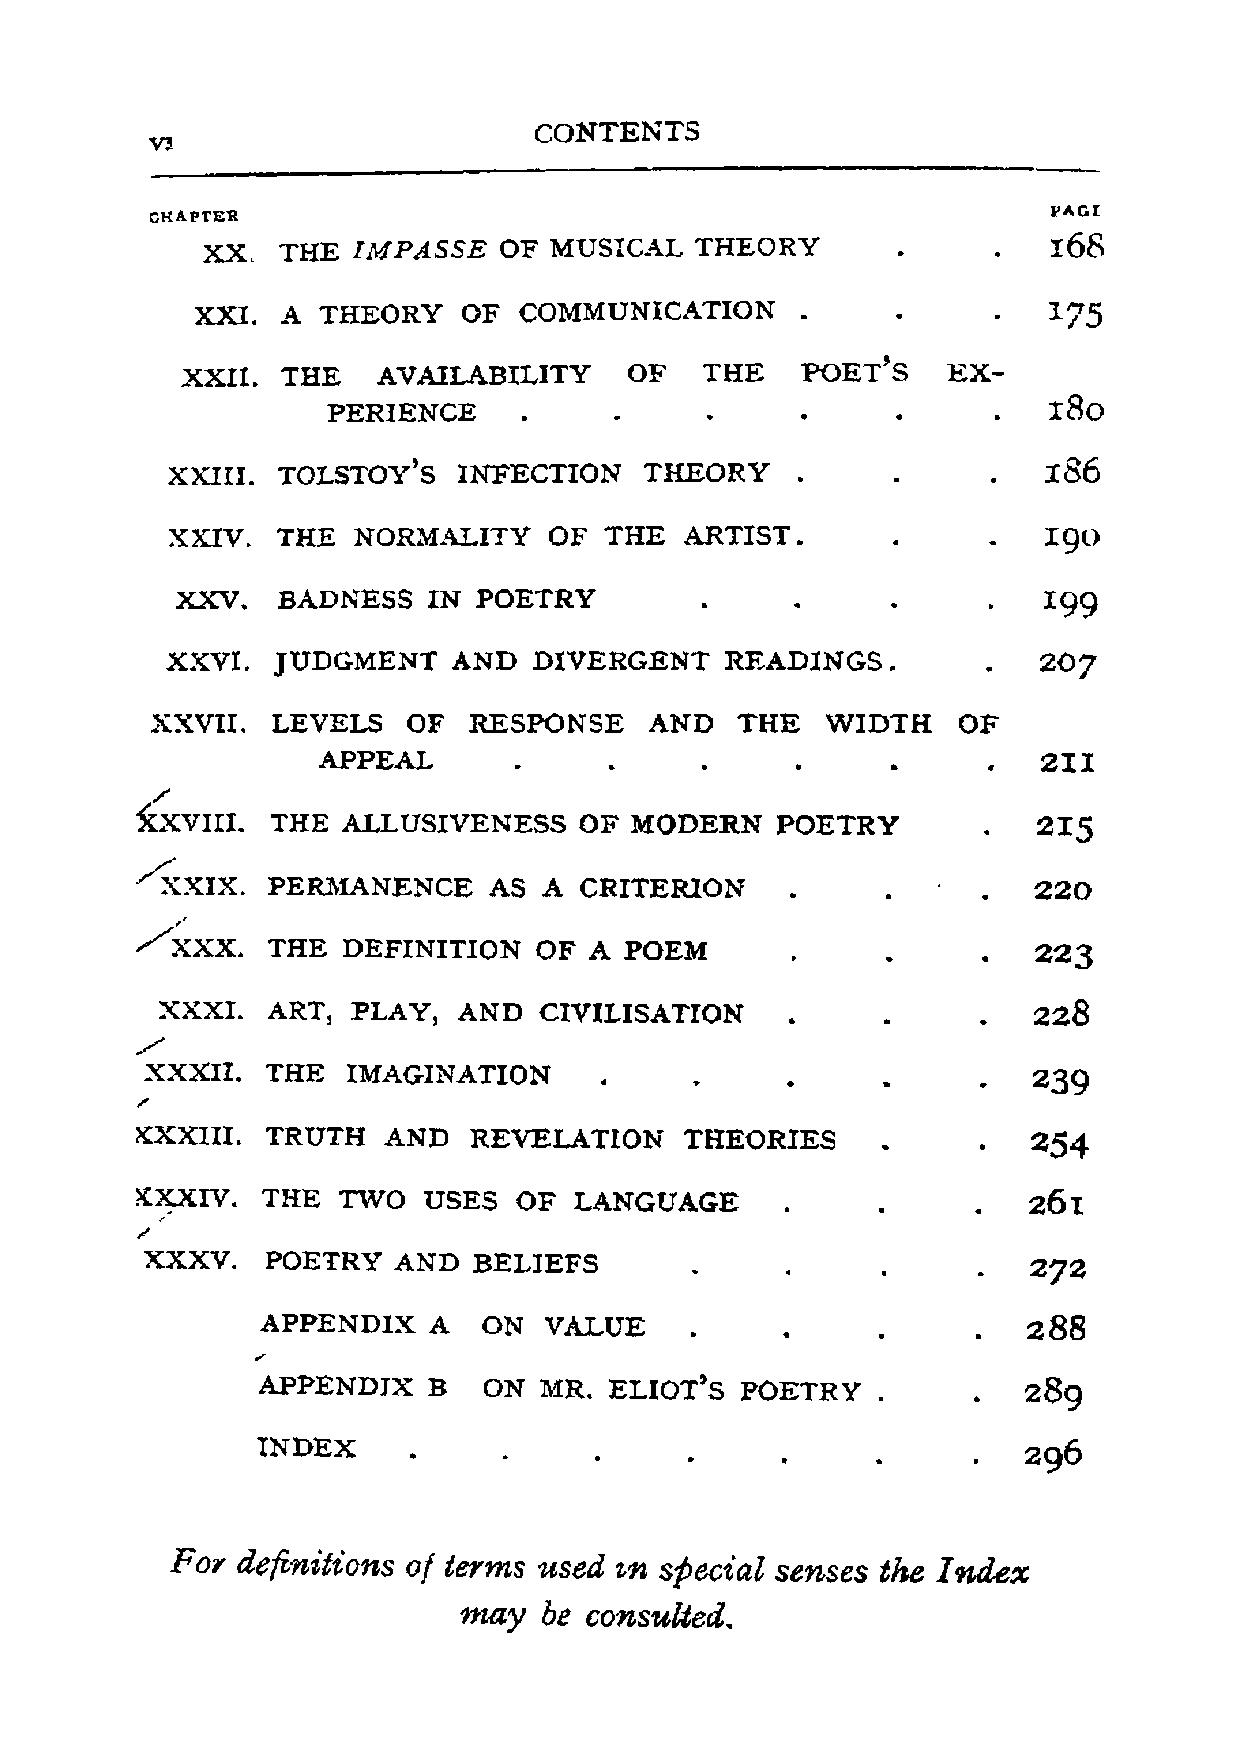TOC_chapter: (148, 701, 1005, 780), (178, 360, 1015, 427), (254, 1366, 866, 1414), (148, 866, 752, 911), (132, 805, 905, 839), (129, 1121, 841, 1155), (195, 231, 821, 270), (136, 1239, 603, 1290), (168, 458, 778, 497), (165, 643, 896, 674), (125, 1180, 747, 1216), (152, 990, 746, 1028), (256, 1296, 651, 1351), (166, 930, 717, 968), (160, 518, 794, 549), (192, 297, 781, 327), (170, 577, 608, 615), (142, 1057, 554, 1088), (254, 1423, 368, 1469)
TOC_pagenumber: (1032, 643, 1107, 688), (1033, 577, 1104, 623), (1045, 285, 1107, 336), (1021, 1435, 1086, 1483), (1045, 384, 1110, 429), (1029, 938, 1100, 978), (1040, 513, 1104, 557), (1028, 1245, 1092, 1290), (1025, 1307, 1090, 1350), (1031, 809, 1106, 845), (1045, 224, 1113, 264), (1028, 1060, 1092, 1100), (1028, 1125, 1092, 1164), (1023, 1372, 1084, 1412), (1029, 994, 1091, 1033), (1041, 450, 1107, 486), (1033, 743, 1098, 778), (1021, 1186, 1088, 1219), (1029, 878, 1096, 909)
chapter: (527, 115, 701, 144)
